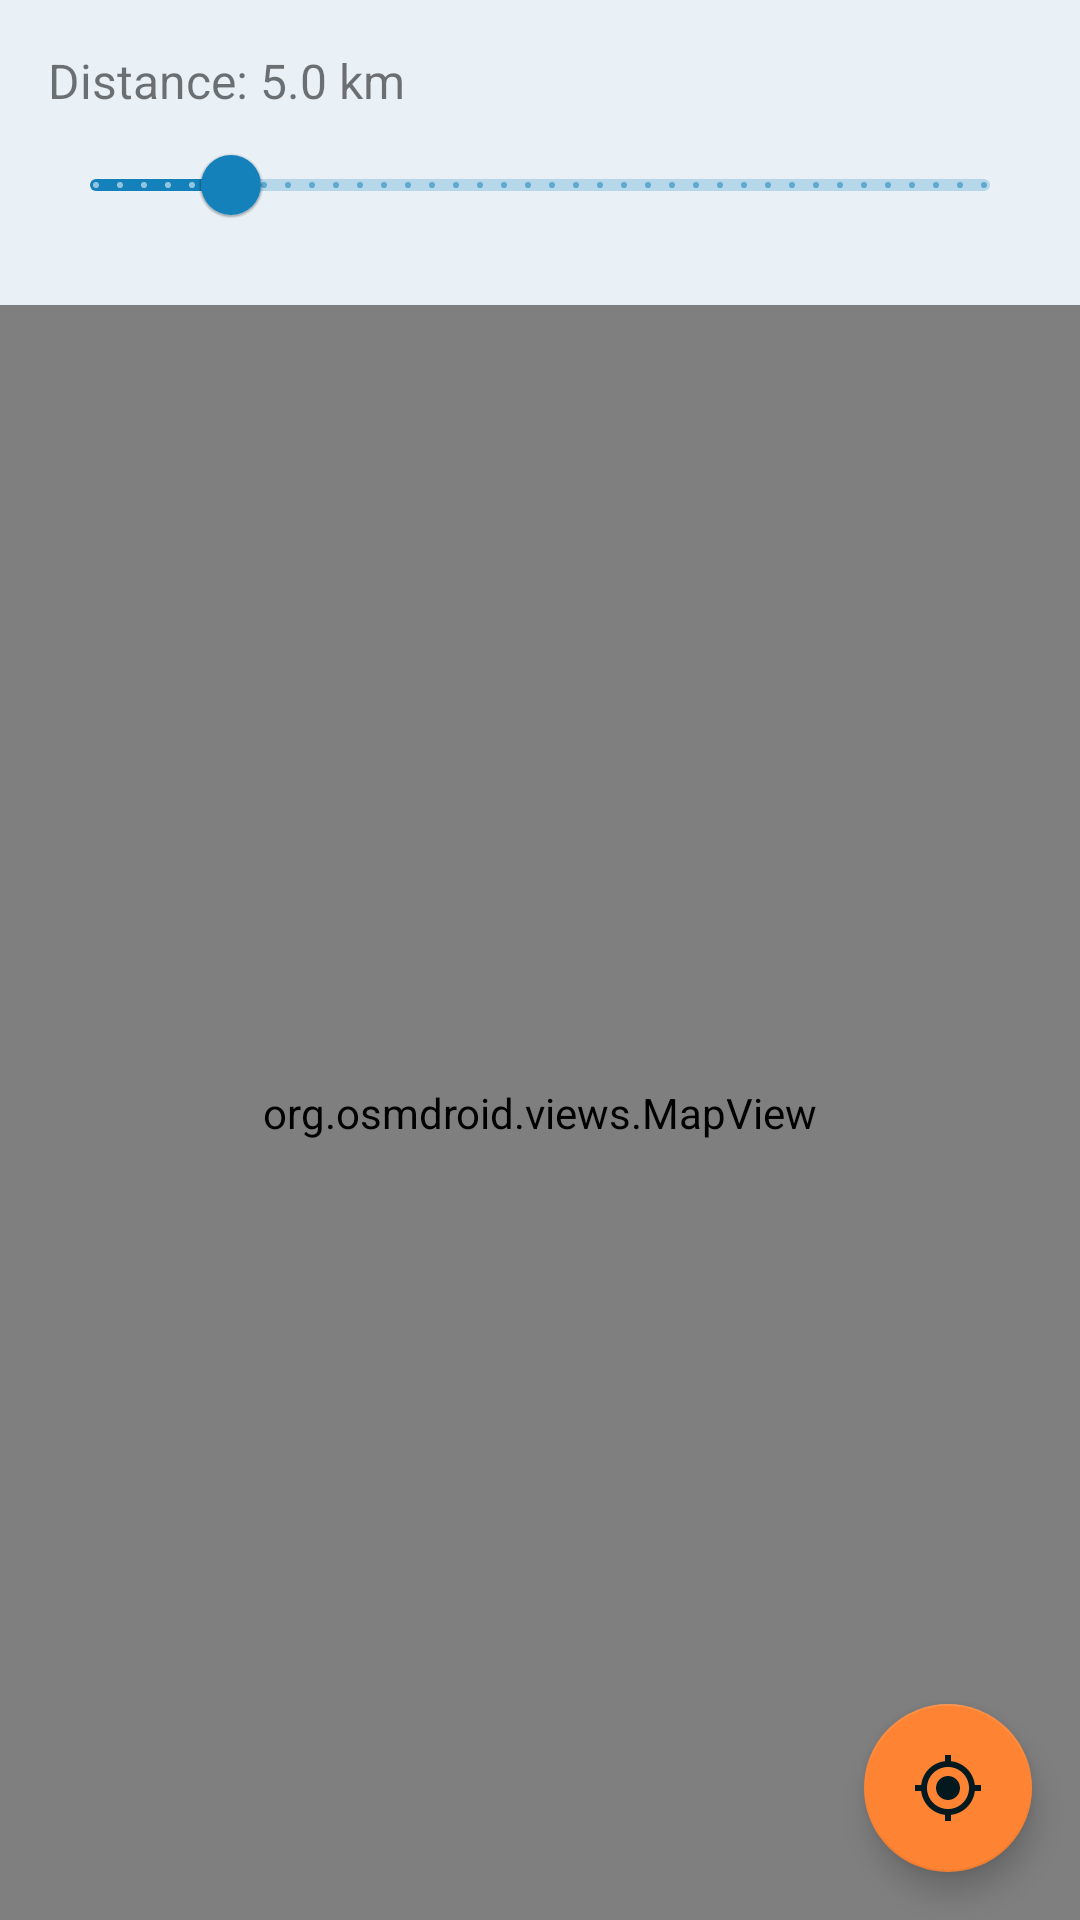

Named icons in this screenshot (1080 × 1920) and their bounding boxes, box(x1, y1, x2, y2):
My Location: box(864, 1704, 1032, 1872)
